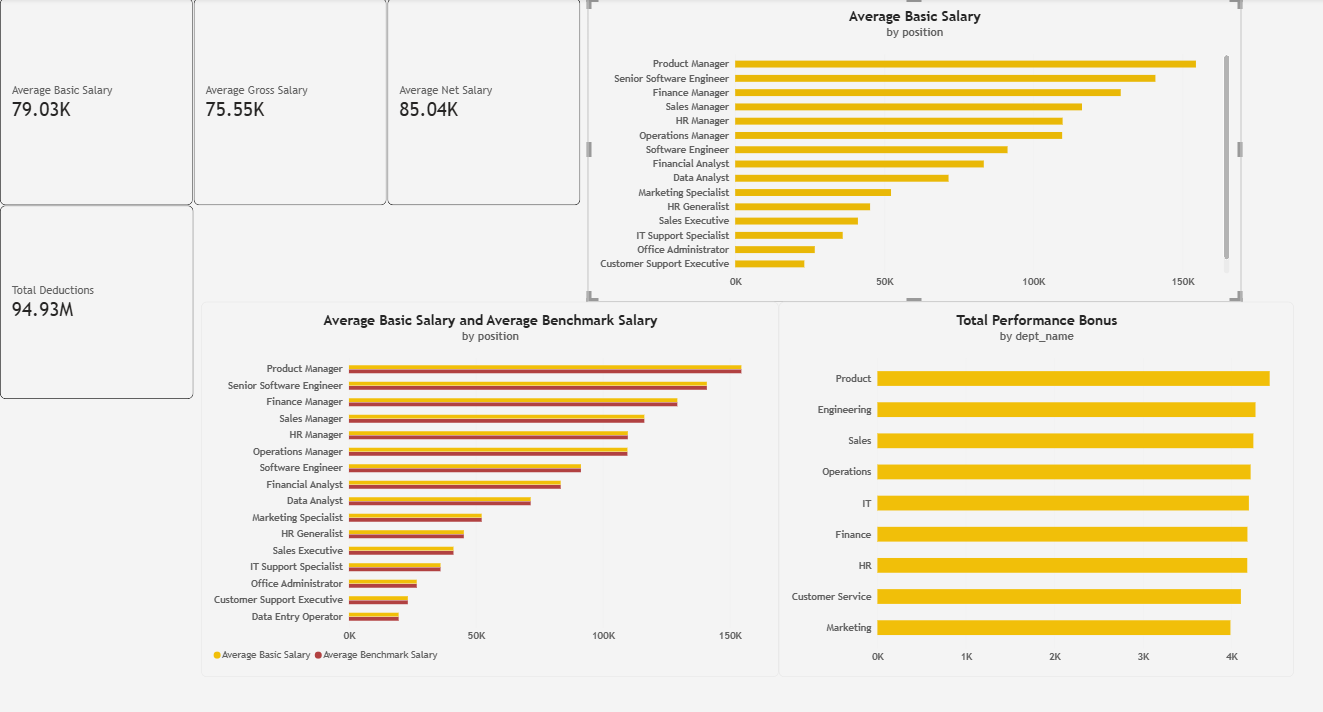

The page's visual inventory and layout, read from the dashboard file:
{"tool":"powerbi","page":{"name":"Salary and Compensation Analysis","canvas":[1920,1080],"ordinal":2},"visuals":[{"type":"cardVisual","fields":{"Data":["emp_salary.Average Basic Salary"]},"box":[0,0,279.9,300.5],"z":0},{"type":"cardVisual","fields":{"Data":["emp_salary.Average Gross Salary"]},"box":[280.5,0,279.9,300.5],"z":1000},{"type":"cardVisual","fields":{"Data":["emp_salary.Average Net Salary"]},"box":[561,0,279.9,300.5],"z":2000},{"type":"clusteredBarChart","fields":{"Category":["job_roles.position"],"Y":["emp_salary.Average Basic Salary"]},"box":[850.5,0,946.5,439.7],"z":3000},{"type":"clusteredBarChart","fields":{"Category":["job_roles.position"],"Y":["emp_salary.Average Basic Salary","emp_salary.Average Benchmark Salary"]},"box":[291.4,439.7,836.1,542.9],"z":4000},{"type":"cardVisual","fields":{"Data":["emp_salary.Total Deductions"]},"box":[0,300.4,280.5,280.5],"z":5000},{"type":"clusteredBarChart","fields":{"Category":["DimDepartment.dept_name"],"Y":["emp_salary.Total Performance Bonus"]},"box":[1127.4,439.7,745.6,542.9],"z":6000}]}

Visuals, with their boxes on the page's 1920x1080 design canvas (x1, y1, x2, y2). These are canvas units, not pixel positions in the 1323x712 screenshot, which may show the page scaled, cropped or inside an application window:
cardVisual - emp_salary.Average Basic Salary: <region>0, 0, 280, 300</region>
cardVisual - emp_salary.Average Gross Salary: <region>280, 0, 560, 300</region>
cardVisual - emp_salary.Average Net Salary: <region>561, 0, 841, 300</region>
clusteredBarChart - job_roles.position x emp_salary.Average Basic Salary: <region>850, 0, 1797, 440</region>
clusteredBarChart - job_roles.position x emp_salary.Average Basic Salary: <region>291, 440, 1128, 983</region>
cardVisual - emp_salary.Total Deductions: <region>0, 300, 280, 581</region>
clusteredBarChart - DimDepartment.dept_name x emp_salary.Total Performance Bonus: <region>1127, 440, 1873, 983</region>
